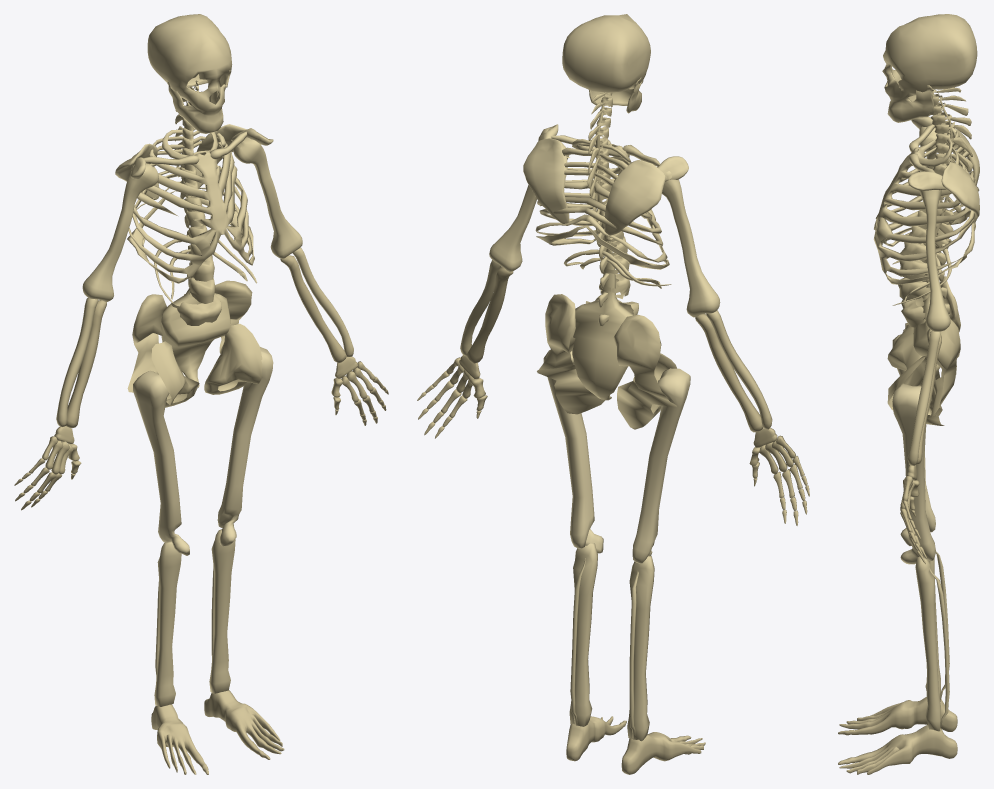
Rendered from EnemyDeath.fbx.
3 renders of one model, left to right at view 1: azimuth 30°, elevation 25°; view 2: azimuth 150°, elevation 25°; view 3: azimuth 270°, elevation 25°, orthographic. The views are drawn at different scales.
Visible parts, largest first — view 1: Rib Cage, Skull, Femur, Ilium.001, Femur.001, Ilium, Spine2.001, Tibia, spine, Tibia.001, Ulna, Humerus (+8 smaller); view 2: Rib Cage, Skull, spine, Ilium, Femur, Clavicle And Shoulder, Ilium.001, Tibia, Tibia.001, Femur.001, Spine2.001, Ulna (+8 smaller); view 3: Skull, Rib Cage, Spine2.001, Tibia.001, Femur.001, Feet.001, Ilium.001, Feet, Clavicle And Shoulder.001, Humerus.001, Radius.001, Ilium (+6 smaller).
Boxes of the visible parts, x1,y1,x2,y2 form: Rib Cage: [127, 128, 256, 303]; Skull: [147, 14, 232, 133]; Femur: [133, 370, 189, 555]; Ilium.001: [204, 280, 262, 394]; Femur.001: [217, 347, 273, 546]; Ilium: [127, 294, 199, 407]; Spine2.001: [171, 81, 221, 325]; Tibia: [154, 541, 181, 706]; spine: [160, 80, 230, 387]; Tibia.001: [209, 529, 235, 693]; Ulna: [56, 298, 106, 428]; Humerus: [82, 163, 158, 302]; Rib Cage: [535, 139, 671, 288]; Skull: [562, 14, 650, 113]; spine: [572, 95, 633, 400]; Ilium: [613, 314, 676, 429]; Femur: [632, 368, 690, 563]; Clavicle And Shoulder: [604, 145, 688, 235]; Ilium.001: [537, 294, 605, 414]; Tibia: [627, 555, 654, 741]; Tibia.001: [569, 543, 597, 726]; Femur.001: [543, 349, 603, 553]; Spine2.001: [586, 92, 638, 326]; Ulna: [695, 310, 772, 432]; Skull: [882, 14, 977, 122]; Rib Cage: [873, 128, 979, 305]; Spine2.001: [898, 87, 972, 327]; Tibia.001: [915, 556, 949, 731]; Femur.001: [892, 384, 935, 564]; Feet.001: [838, 725, 957, 774]; Ilium.001: [887, 319, 960, 425]; Feet: [838, 696, 957, 735]; Clavicle And Shoulder.001: [908, 153, 979, 223]; Humerus.001: [919, 190, 950, 331]; Radius.001: [907, 330, 941, 465]; Ilium: [887, 276, 960, 379].
Size of the model in its own units: 186 by 339 by 59.72.
